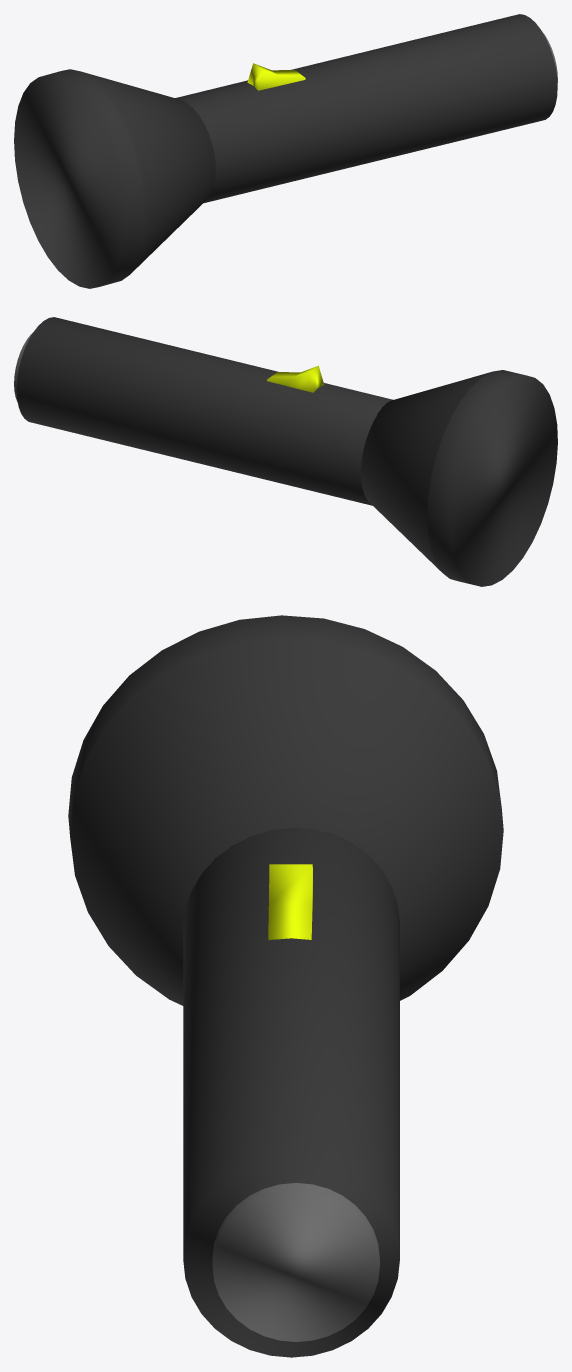
File: flashlight.fbx
3 renders of one model, top to bottom at view 1: azimuth 30°, elevation 25°; view 2: azimuth 150°, elevation 25°; view 3: azimuth 270°, elevation 25°, orthographic. The views are drawn at different scales.
Parts seen in each view (by area): view 1: Cylinder; view 2: Cylinder; view 3: Cylinder.
Boxes of the visible parts, box(x1,y1,x2,y2) form: Cylinder: box(14, 14, 557, 288); Cylinder: box(14, 317, 557, 586); Cylinder: box(68, 615, 503, 1357).
Bounding box in the file's own units: 497 × 200 × 201.
